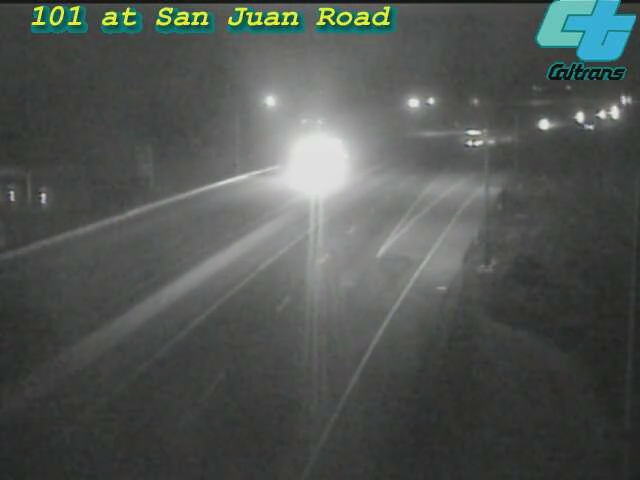vehicle: (272, 123, 352, 203), (523, 101, 573, 151), (567, 101, 617, 151), (448, 111, 498, 161), (552, 92, 602, 142), (577, 90, 627, 140), (591, 87, 640, 137)
